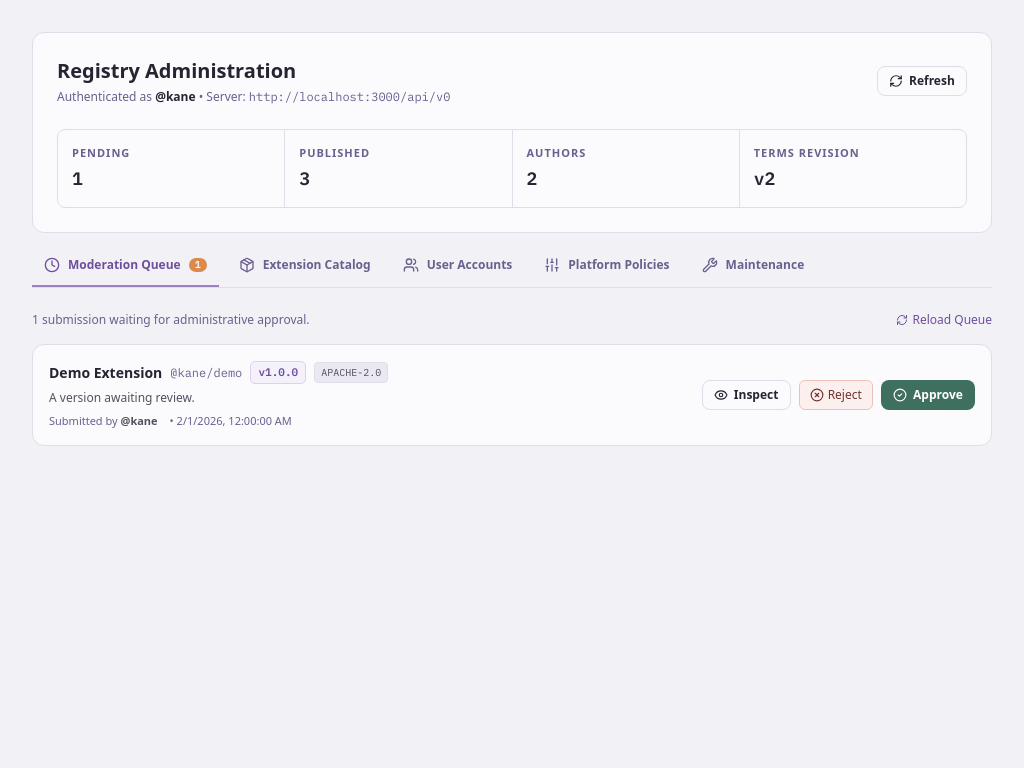
AdminPage › opens the maintenance tab with the prune tool
Click the button "Maintenance": (753,272) [690,257,816,287]
(page scrolled)
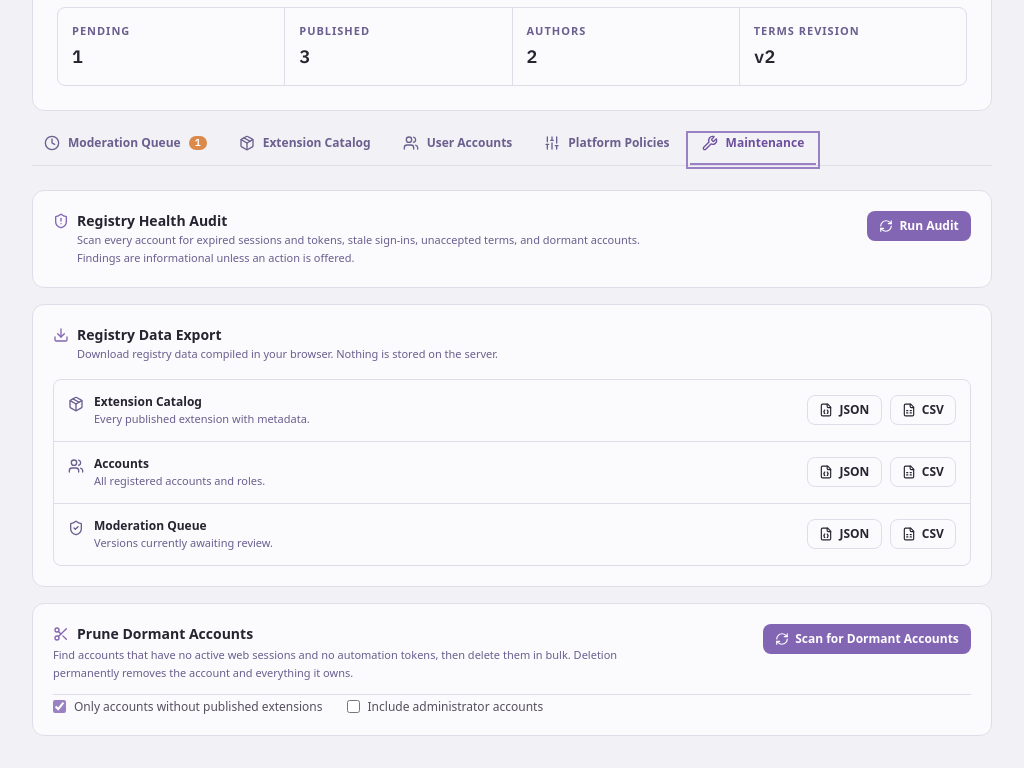
Expected: the heading "Prune Dormant Accounts" is shown, [77,624,253,644]
Expected: the button "Scan for Dormant Accounts" is shown, [763,624,971,654]
